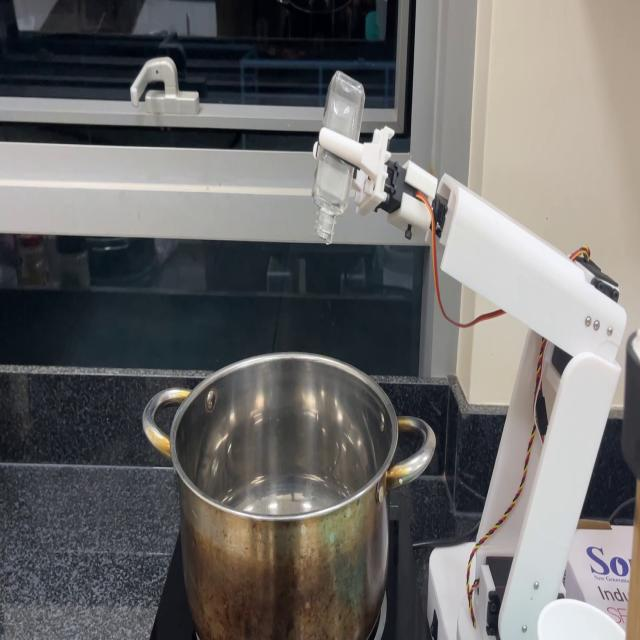cooking_pot: (143, 363, 446, 640)
